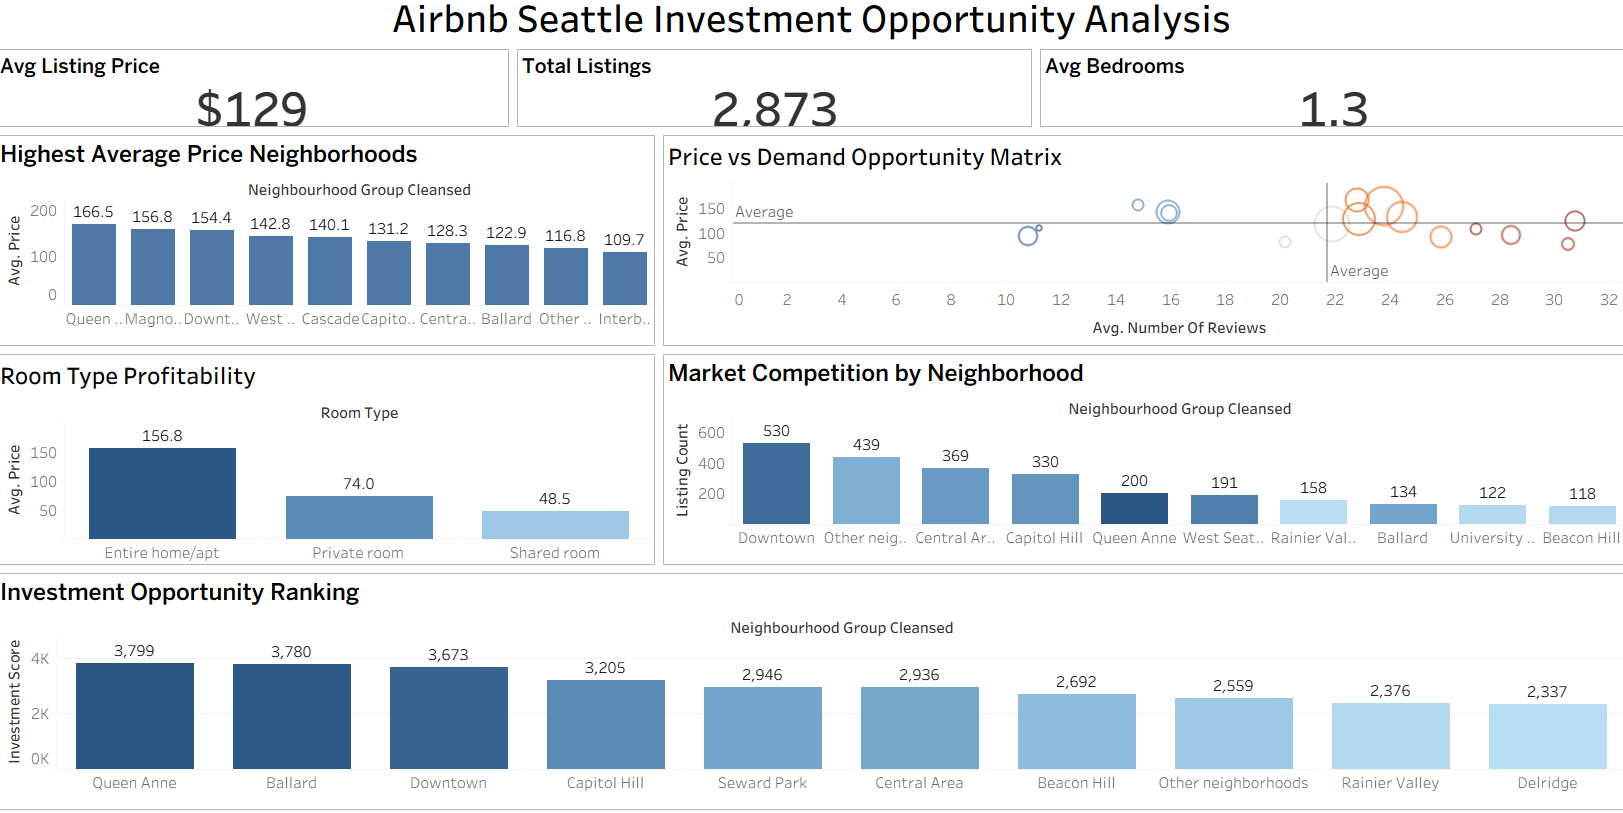

What the dashboard file says about the page in this screenshot:
{"tool":"tableau","page":{"name":"Dashboard 1","canvas":[1000,1000],"units":"permille","ordinal":0},"visuals":[{"type":"text","box":[4.8,9.5,990.3,66.9]},{"type":"worksheet","title":" Average Listing Price","mark":"Automatic","box":[4.8,76.4,315,102]},{"type":"worksheet","title":"Total Listings","mark":"Automatic","box":[319.9,76.4,315.6,102]},{"type":"worksheet","title":"Average Bedrooms","mark":"Automatic","box":[635.5,76.4,359.7,102]},{"type":"worksheet","title":"Best Investment Neighborhoods","mark":"Automatic","rows":["price"],"cols":["neighbourhood_group_cleansed"],"box":[4.8,178.4,403.1,260.4]},{"type":"worksheet","title":"Price-Demand Quadrant Analysis","mark":"Automatic","rows":["price"],"cols":["number_of_reviews"],"box":[408,178.4,587.2,260.4]},{"type":"worksheet","title":"Room Type Profitability","mark":"Automatic","rows":["price"],"cols":["room_type"],"box":[4.8,438.8,403.1,260.4]},{"type":"worksheet","title":"Competition Analysis","mark":"Automatic","rows":["id"],"cols":["neighbourhood_group_cleansed"],"box":[408,438.8,587.2,260.4]},{"type":"worksheet","title":"Investment Score Ranking","mark":"Automatic","rows":["Calculation_0863407099584512"],"cols":["neighbourhood_group_cleansed"],"box":[4.8,699.2,990.3,291.3]}]}

Visuals, with their boxes on the dashboard's canvas, which has no fixed pixel size, in thousandths of its width and height (x1, y1, x2, y2). These are canvas units, not pixel positions in the 1623x813 screenshot, which may show the page scaled, cropped or inside an application window:
text: left=5, top=10, right=995, bottom=76
" Average Listing Price" worksheet: left=5, top=76, right=320, bottom=178
"Total Listings" worksheet: left=320, top=76, right=636, bottom=178
"Average Bedrooms" worksheet: left=636, top=76, right=995, bottom=178
"Best Investment Neighborhoods" worksheet: left=5, top=178, right=408, bottom=439
"Price-Demand Quadrant Analysis" worksheet: left=408, top=178, right=995, bottom=439
"Room Type Profitability" worksheet: left=5, top=439, right=408, bottom=699
"Competition Analysis" worksheet: left=408, top=439, right=995, bottom=699
"Investment Score Ranking" worksheet: left=5, top=699, right=995, bottom=990
